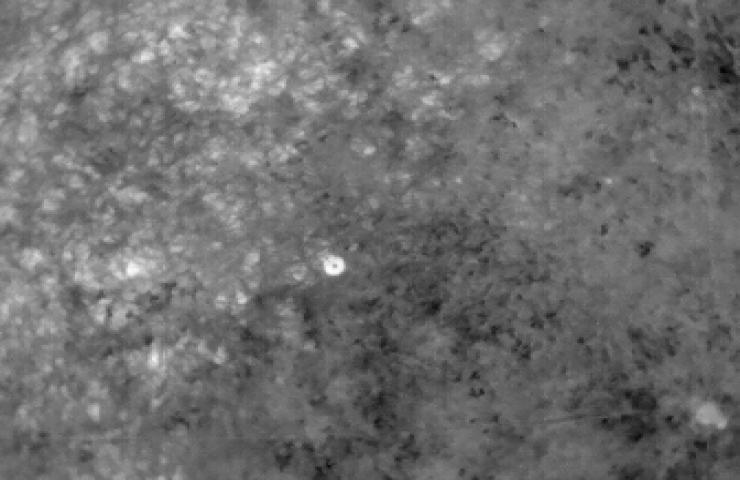landmines: (321, 253, 349, 277)
